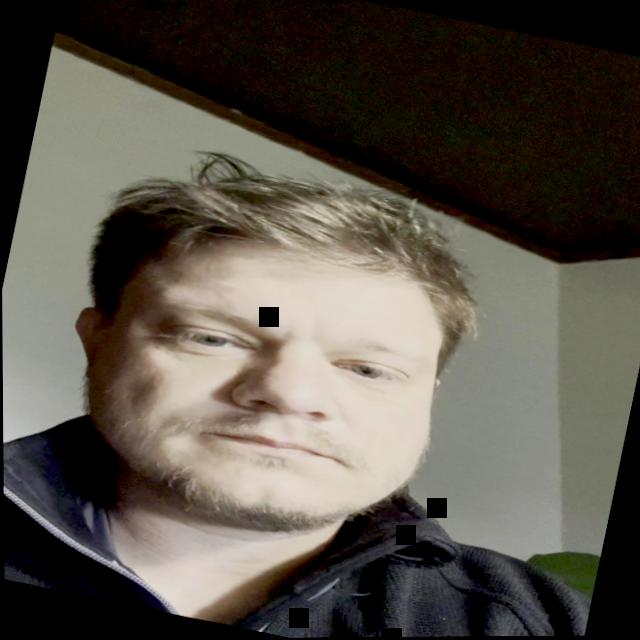NO-Mask: (28, 150, 493, 574)
